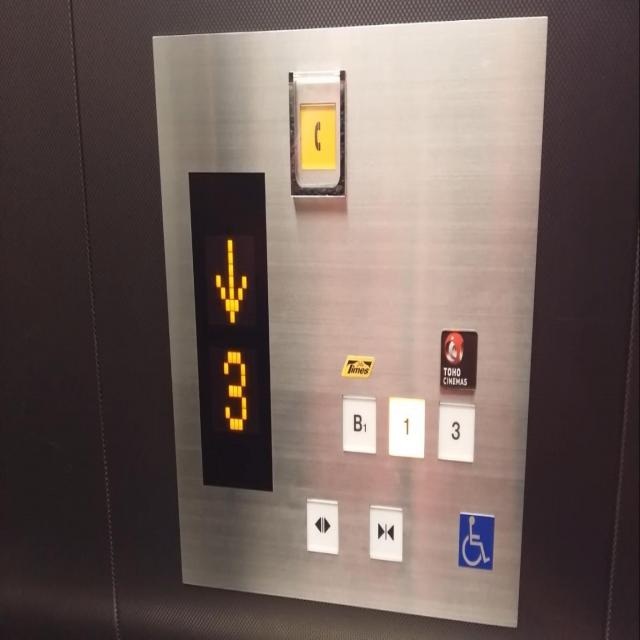1: (386, 392, 427, 461)
3: (434, 396, 477, 466)
B1: (339, 391, 378, 456)
CH: (456, 508, 496, 574)
call: (286, 67, 347, 205)
close: (366, 498, 404, 567)
led: (186, 165, 275, 494)
open: (304, 492, 341, 556)
